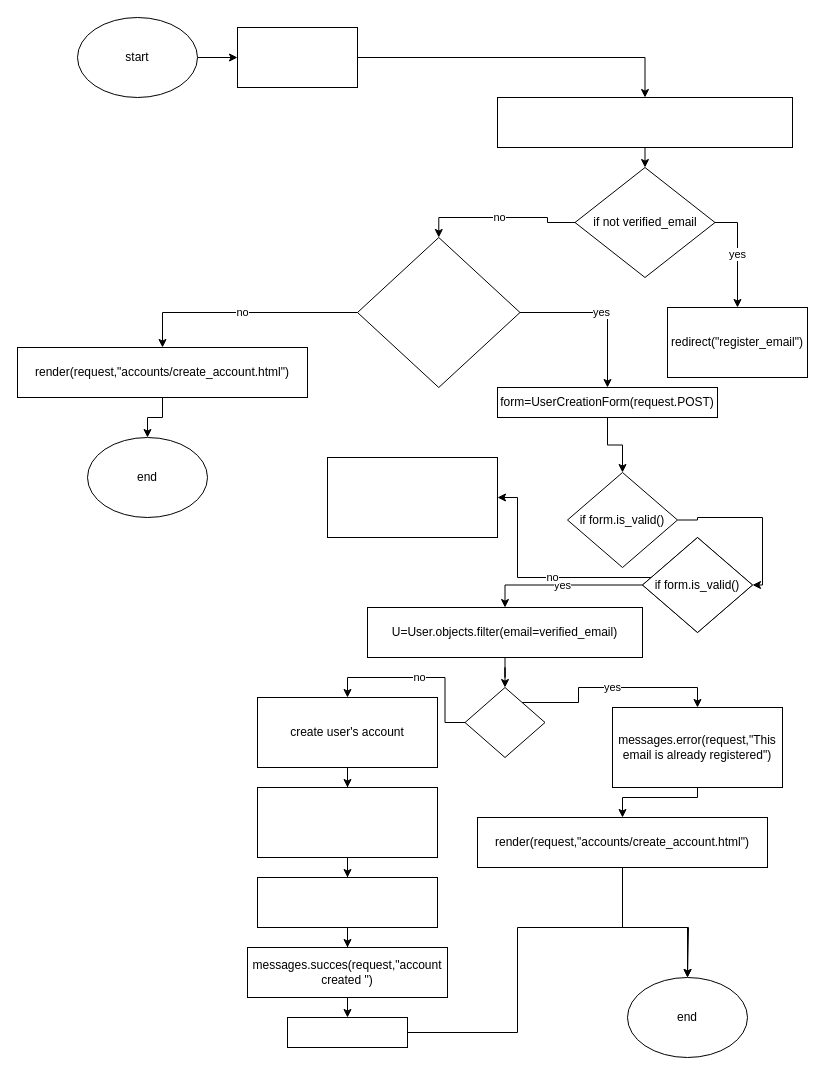
Some shapes in this 825 by 1075 pixel diagram are drawn without their labels. The shapes that lost their labels are listed below. From the top down, each one's centre as x and y in pixels, then its label:
the point at 297,57: recive request
the point at 644,122: verified_email=request.session.get("verified_email")
the point at 438,312: if request.method=='POST'
the point at 412,497: messages.error(request,"form is invalid")
the point at 504,722: if U.exists()
the point at 347,822: user_score=0
the point at 347,902: login user
the point at 347,1032: redirect(home)
